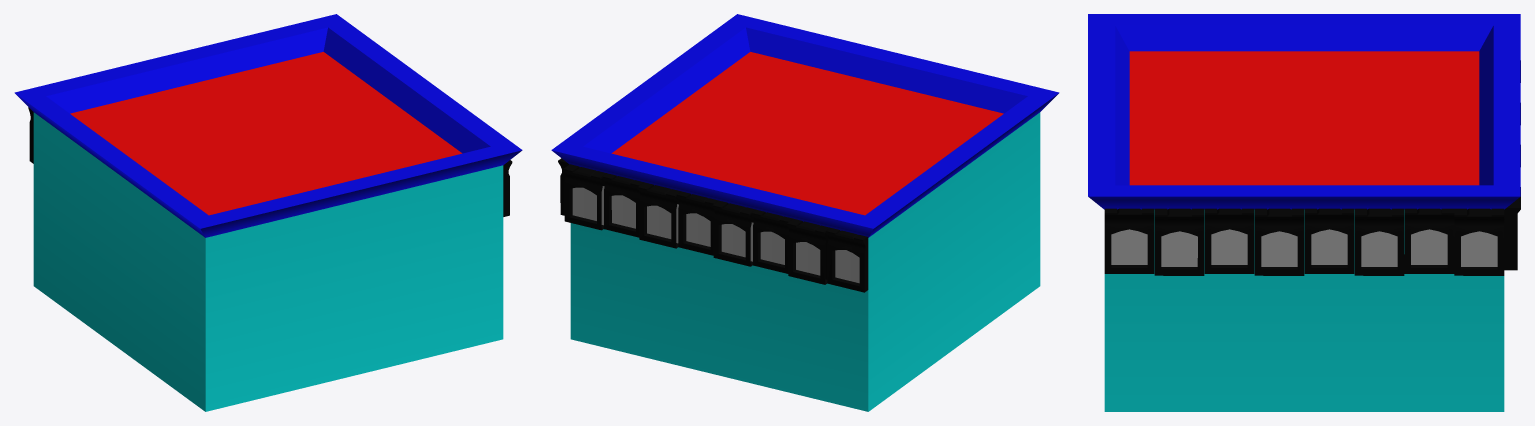
Rendered from Edificio.fbx.
3 views of the same model, side by side, from view 1: azimuth 30°, elevation 25°; view 2: azimuth 150°, elevation 25°; view 3: azimuth 270°, elevation 25° (orthographic). The views are drawn at different scales.
Parts seen in each view (by area): view 1: Architecture, Windows; view 2: Architecture, Windows; view 3: Architecture, Windows.
Boxes of the visible parts, left/top/right/bottom form: Architecture: left=14, top=14, right=522, bottom=411; Windows: left=28, top=107, right=512, bottom=216; Architecture: left=551, top=14, right=1059, bottom=411; Windows: left=558, top=158, right=868, bottom=292; Architecture: left=1088, top=14, right=1520, bottom=411; Windows: left=1104, top=60, right=1520, bottom=275.
Size of the model in its own units: 2599 by 1472 by 2599.
